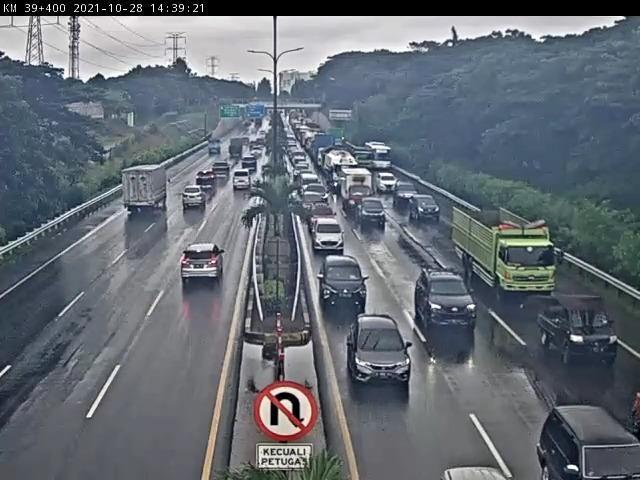bus: (367, 142, 396, 173)
car: (535, 400, 640, 480), (535, 293, 619, 365), (347, 308, 411, 386), (416, 265, 478, 338), (314, 253, 368, 309), (178, 236, 225, 288), (310, 214, 345, 253), (356, 194, 390, 226), (409, 194, 442, 222), (390, 177, 417, 207), (299, 193, 328, 219), (306, 181, 333, 207), (183, 186, 208, 212), (187, 178, 212, 201), (374, 170, 397, 193), (232, 170, 255, 193), (297, 173, 322, 194), (207, 166, 228, 188), (312, 201, 334, 222), (239, 159, 257, 175), (248, 151, 263, 164)
truck: (451, 198, 561, 300), (115, 162, 176, 217), (337, 164, 375, 214), (348, 143, 375, 171)
